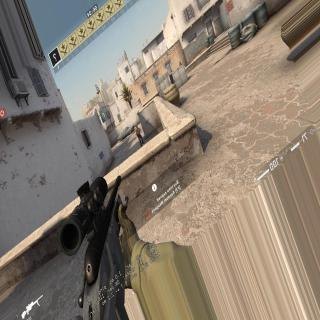T-Body: (136, 125, 144, 146)
T-Head: (136, 125, 138, 129)
